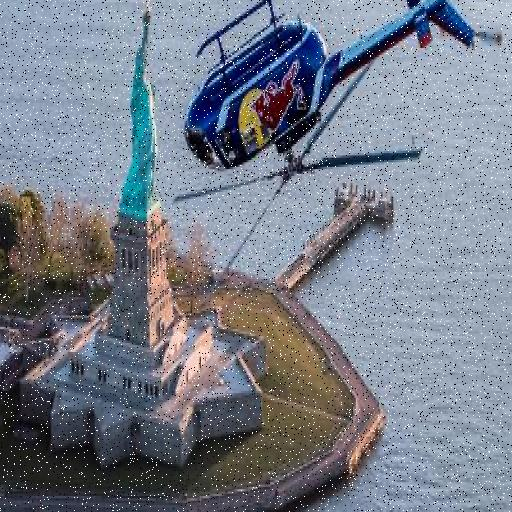helicopter: (178, 1, 481, 198)
